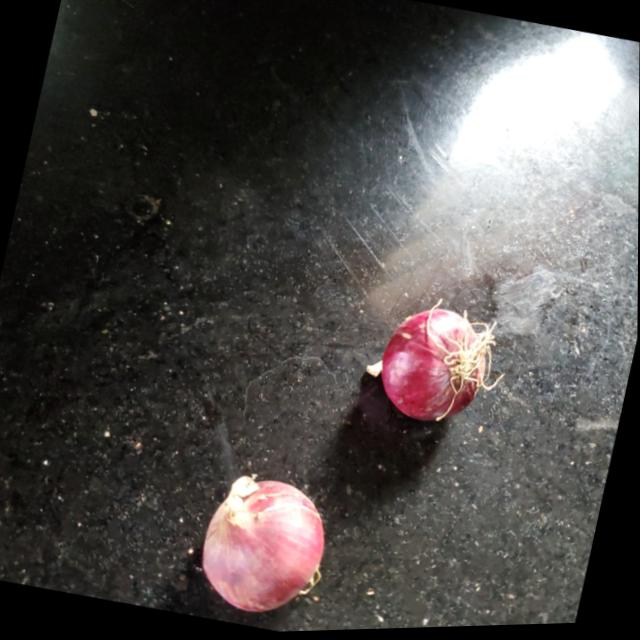onion: (188, 468, 336, 625), (355, 298, 500, 439)
